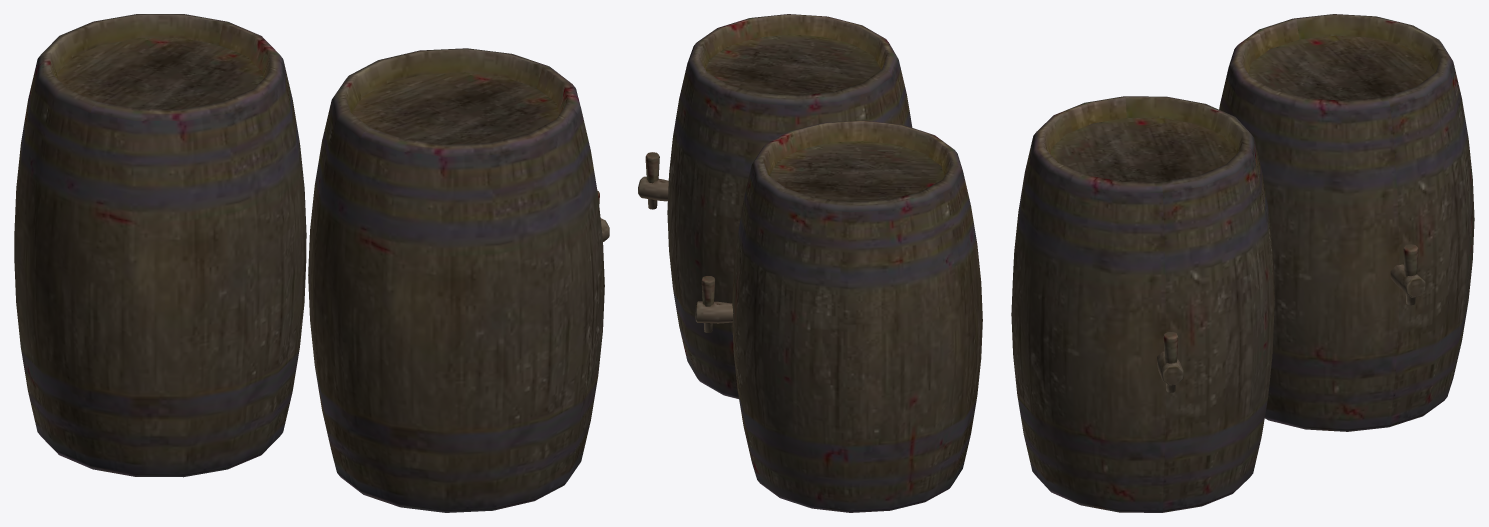
File: SHO_General_Store_BarrelSet-transformed.glb
The picture shows the model from 3 angles, left to right: view 1: azimuth 30°, elevation 25°; view 2: azimuth 150°, elevation 25°; view 3: azimuth 270°, elevation 25°; orthographic projection. The views are drawn at different scales.
Visible parts, largest first — view 1: default; view 2: default; view 3: default.
Boxes of the visible parts, left/top/right/bottom form: default: left=14, top=14, right=609, bottom=512; default: left=638, top=14, right=982, bottom=512; default: left=1011, top=14, right=1474, bottom=512.
Bounding box in the file's own units: 1.08 × 0.785 × 1.
Materials: 1 (1 with a texture image).
